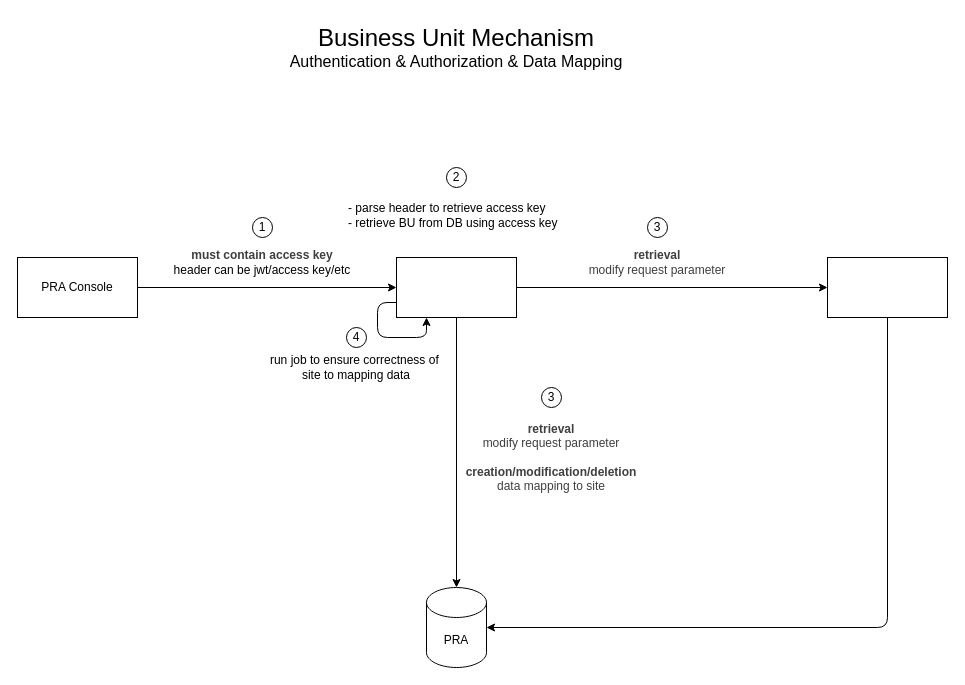
This 965x685 diagram has some shape labels left out. The box of each missing label's shape, as (x1, y1, x2, y2) in pixels:
PRA API: (396, 256, 516, 318)
PRA Sync API: (826, 256, 948, 318)
